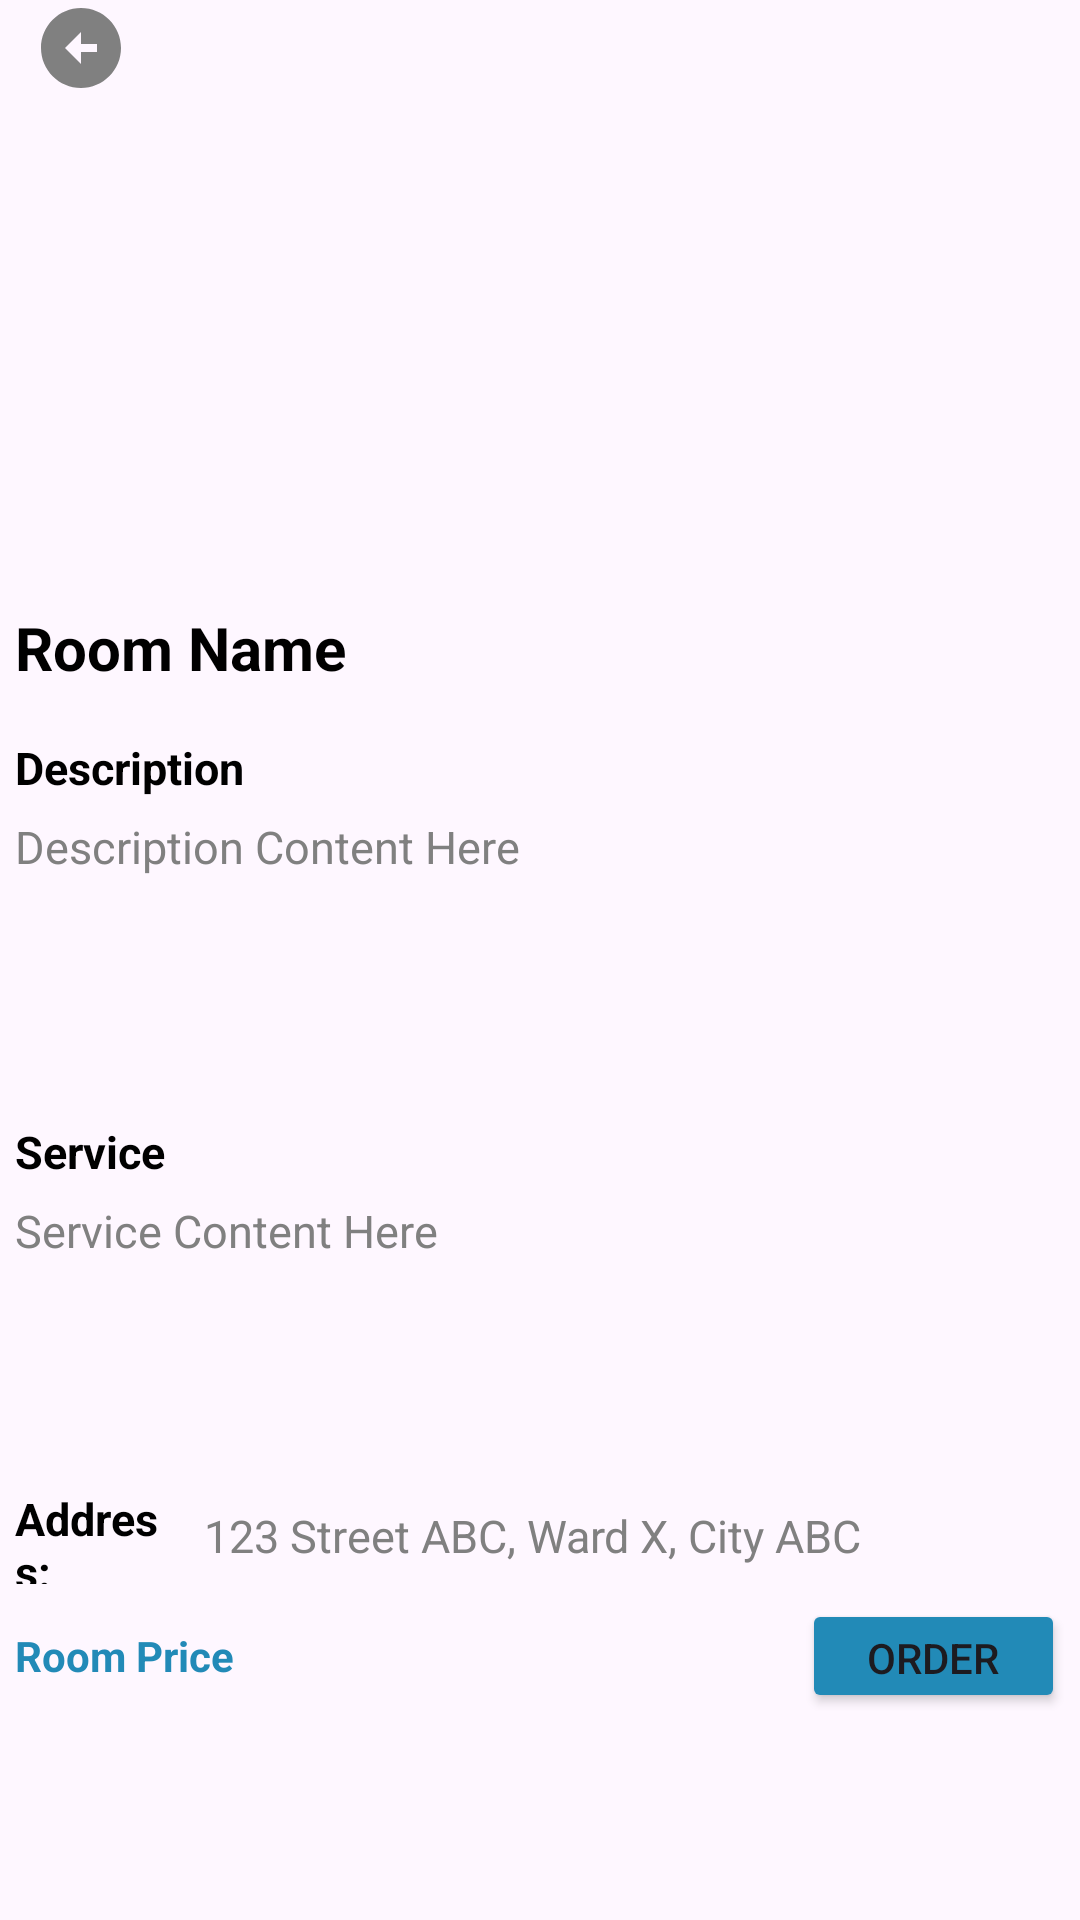

Screen size 1080x1920. Icon name, then its center in pixels as [x,y]:
back: [81,48]
